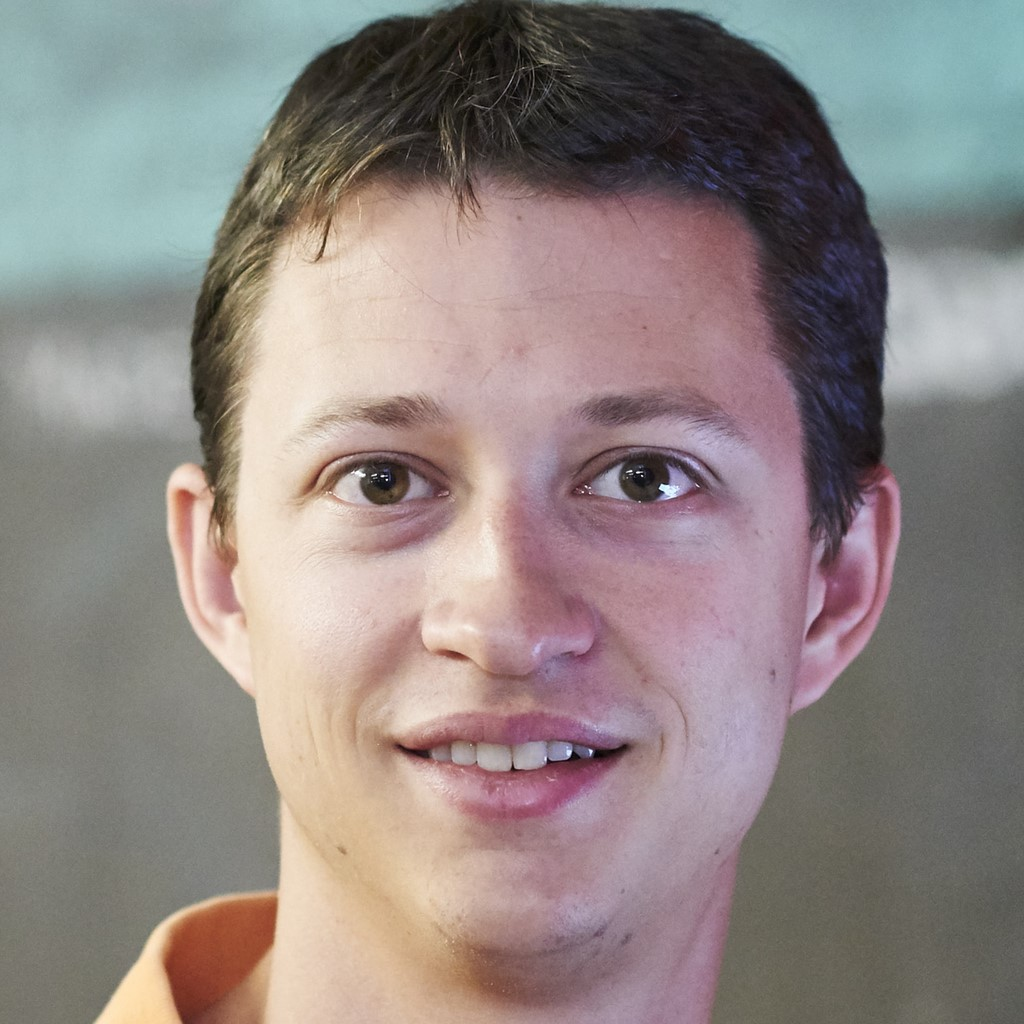sin_mascara: (165, 119, 884, 965)
